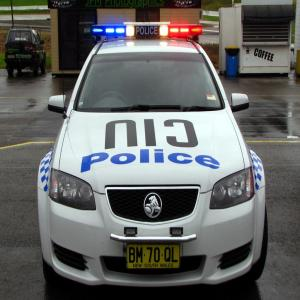Vehicle-registration-plate: (124, 238, 185, 277), (8, 56, 16, 59)
